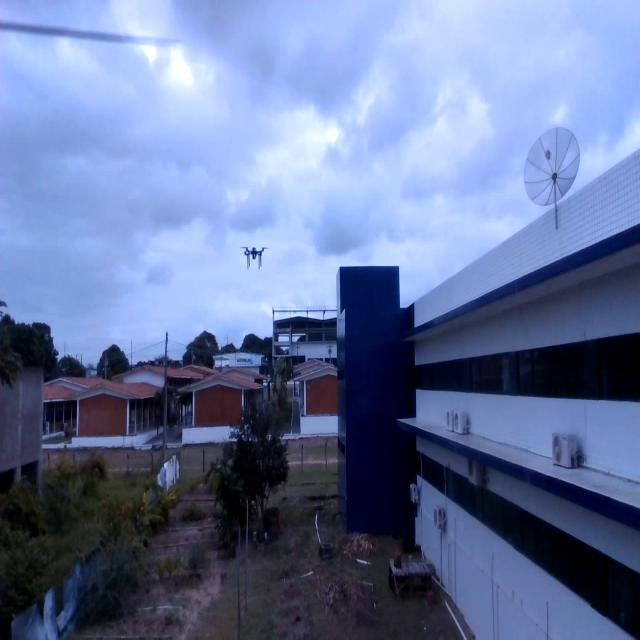-uav-: (236, 237, 272, 280)
